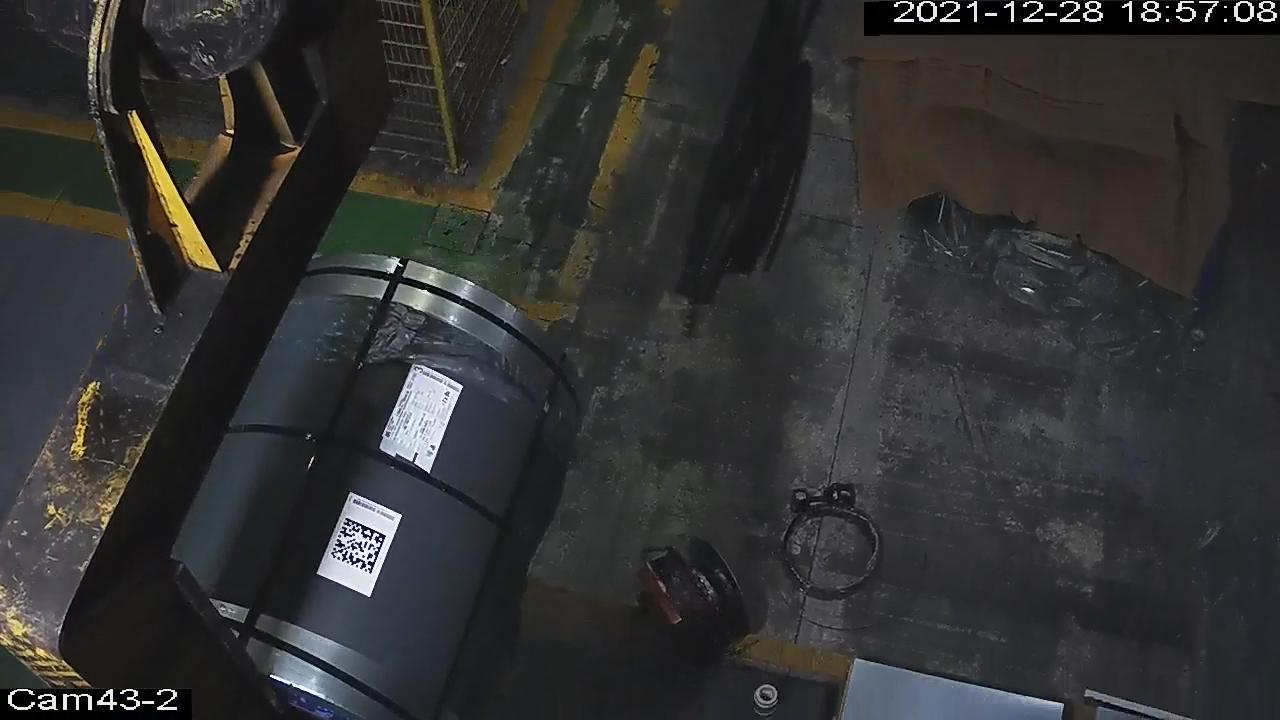data matrix: (329, 515, 390, 577)
